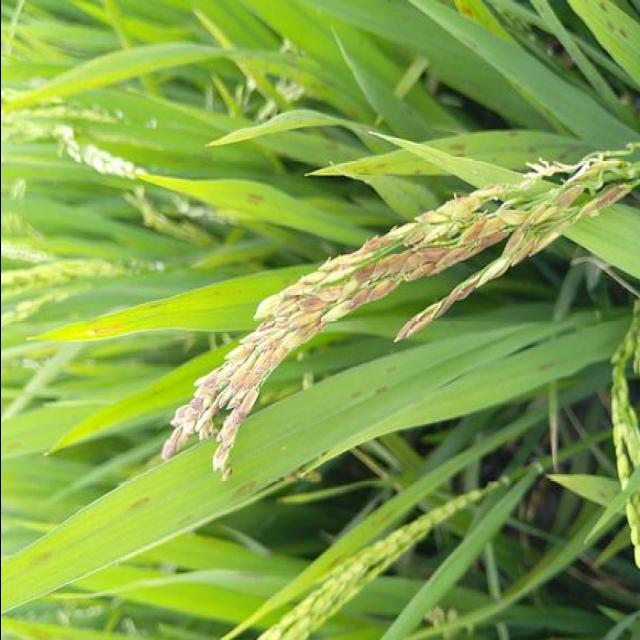Panicle Blight: (400, 282, 477, 338), (355, 251, 421, 282), (344, 277, 400, 310), (202, 371, 230, 420), (586, 183, 633, 211), (255, 336, 287, 373), (299, 286, 342, 313), (474, 229, 509, 254), (228, 392, 253, 426), (551, 185, 584, 210), (511, 239, 540, 267), (161, 426, 184, 461), (501, 225, 525, 258), (230, 366, 257, 395), (404, 261, 440, 282), (460, 219, 487, 245), (298, 317, 323, 341), (440, 248, 473, 266), (189, 396, 207, 423), (416, 247, 446, 263), (256, 317, 274, 332)
